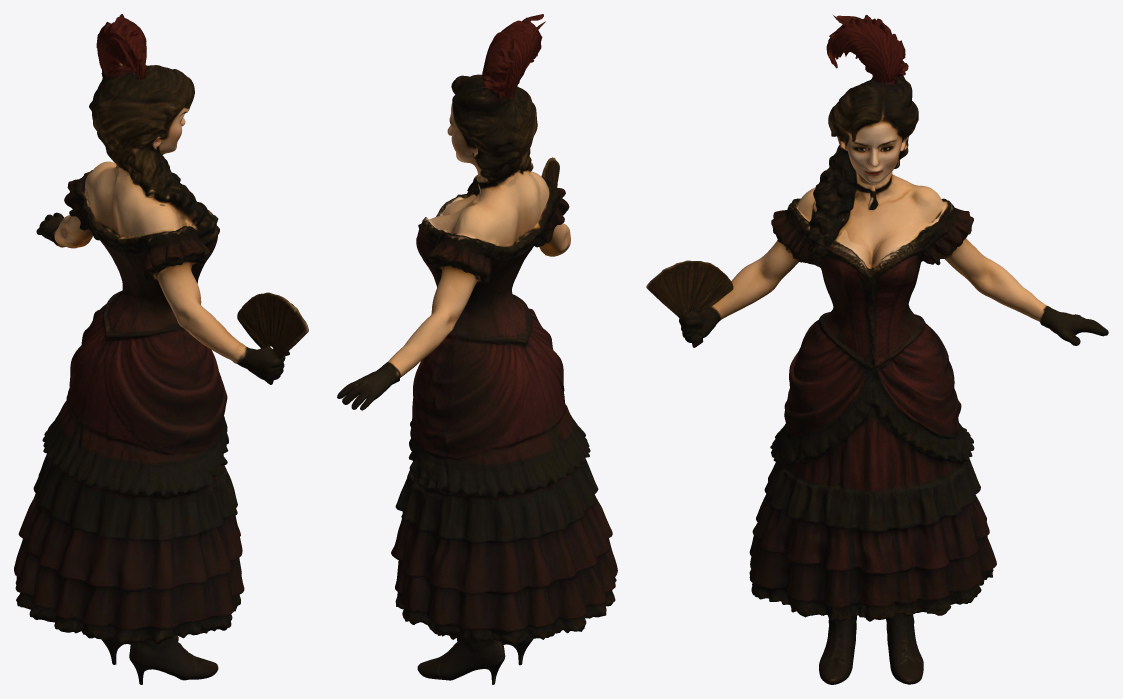
Rendered from mujer.fbx.
3 renders of one model, left to right at view 1: azimuth 30°, elevation 25°; view 2: azimuth 150°, elevation 25°; view 3: azimuth 270°, elevation 25°, orthographic. The views are drawn at different scales.
Visible parts, largest first — view 1: tripo_node_09ea5406; view 2: tripo_node_09ea5406; view 3: tripo_node_09ea5406.
Boxes of the visible parts, x1,y1,x2,y2 form: tripo_node_09ea5406: (14, 14, 308, 684); tripo_node_09ea5406: (337, 14, 617, 684); tripo_node_09ea5406: (646, 15, 1108, 684).
Bounding box in the file's own units: 0.3134 × 1 × 0.6611.
Materials: 1 (1 with a texture image).
